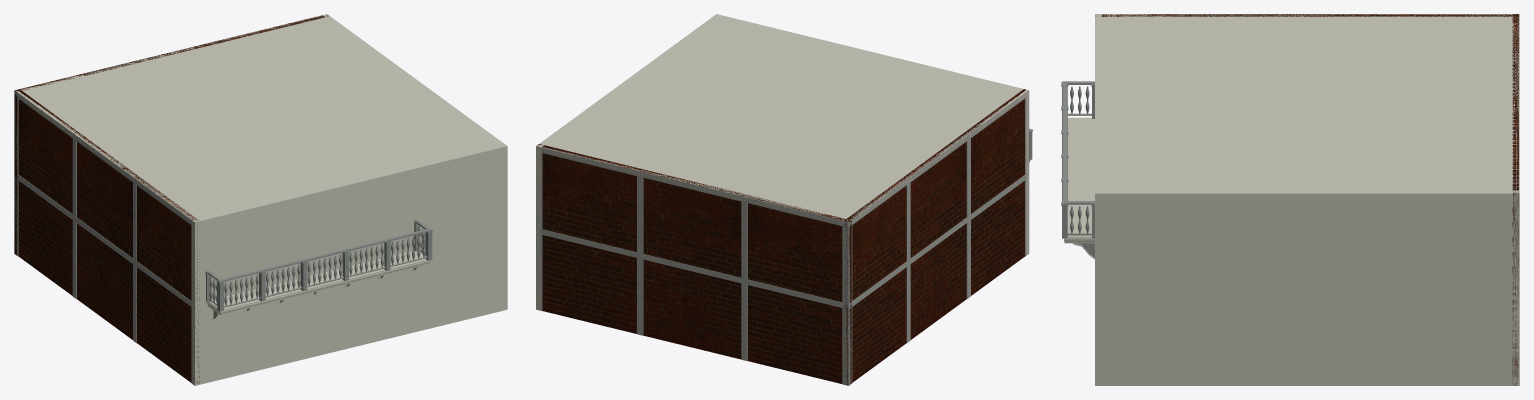
File: building.glb
3 views of the same model, side by side, from view 1: azimuth 30°, elevation 25°; view 2: azimuth 150°, elevation 25°; view 3: azimuth 270°, elevation 25° (orthographic). The views are drawn at different scales.
Parts seen in each view (by area): view 1: roof/house:0/roof_slab#0001, house:0/edge0/z0/house:0/edge0/z0/wall_0_0, house:0/edge3/z0/house:0/edge3/z0/wall_0_0, balcony/sample/balcony_platform#0001, house:0/edge2/z0/house:0/edge2/z0/wall_0_0, house:0/edge1/z0/house:0/edge1/z0/wall_0_0, house:0/edge3/z0/house:0/edge3/z0/beam_0_0, house:0/edge3/z0/house:0/edge3/z0/beam_1_0, balcony/sample/balcony_fascia#0001, balcony/sample/balcony_handrail#0001, balcony/sample/balcony_lower_rail#0002; view 2: roof/house:0/roof_slab#0001, house:0/edge2/z0/house:0/edge2/z0/wall_0_0, house:0/edge3/z0/house:0/edge3/z0/wall_0_0, house:0/edge2/z0/house:0/edge2/z0/beam_0_0, house:0/edge1/z0/house:0/edge1/z0/wall_0_0, house:0/edge2/z0/house:0/edge2/z0/beam_1_0, house:0/edge0/z0/house:0/edge0/z0/wall_0_0, house:0/edge3/z0/house:0/edge3/z0/beam_0_0, house:0/edge3/z0/house:0/edge3/z0/beam_1_0, house:0/edge2/z0/house:0/edge2/z0/column_1_1, house:0/edge2/z0/house:0/edge2/z0/column_2_0, house:0/edge2/z0/house:0/edge2/z0/column_2_1 (+3 smaller); view 3: house:0/edge1/z0/house:0/edge1/z0/wall_0_0, roof/house:0/roof_slab#0001, balcony/sample/balcony_platform#0001, house:0/edge0/z0/house:0/edge0/z0/wall_0_0, house:0/edge2/z0/house:0/edge2/z0/wall_0_0, house:0/edge3/z0/house:0/edge3/z0/wall_0_0, balcony/sample/balcony_handrail#0001.
Boxes of the visible parts, box(x1,y1,x2,y2) form: roof/house:0/roof_slab#0001: box(14, 16, 507, 224); house:0/edge0/z0/house:0/edge0/z0/wall_0_0: box(192, 144, 507, 385); house:0/edge3/z0/house:0/edge3/z0/wall_0_0: box(18, 89, 199, 383); balcony/sample/balcony_platform#0001: box(208, 251, 427, 310); house:0/edge2/z0/house:0/edge2/z0/wall_0_0: box(14, 15, 328, 255); house:0/edge1/z0/house:0/edge1/z0/wall_0_0: box(322, 14, 507, 310); house:0/edge3/z0/house:0/edge3/z0/beam_0_0: box(14, 172, 194, 309); house:0/edge3/z0/house:0/edge3/z0/beam_1_0: box(14, 90, 194, 225); balcony/sample/balcony_fascia#0001: box(207, 260, 430, 315); balcony/sample/balcony_handrail#0001: box(206, 219, 431, 281); balcony/sample/balcony_lower_rail#0002: box(224, 256, 427, 307); roof/house:0/roof_slab#0001: box(536, 14, 1028, 225); house:0/edge2/z0/house:0/edge2/z0/wall_0_0: box(537, 144, 851, 384); house:0/edge3/z0/house:0/edge3/z0/wall_0_0: box(843, 89, 1025, 385); house:0/edge2/z0/house:0/edge2/z0/beam_0_0: box(536, 228, 848, 309); house:0/edge1/z0/house:0/edge1/z0/wall_0_0: box(536, 15, 720, 310); house:0/edge2/z0/house:0/edge2/z0/beam_1_0: box(536, 146, 848, 227); house:0/edge0/z0/house:0/edge0/z0/wall_0_0: box(714, 14, 1029, 255); house:0/edge3/z0/house:0/edge3/z0/beam_0_0: box(848, 173, 1028, 309); house:0/edge3/z0/house:0/edge3/z0/beam_1_0: box(848, 90, 1028, 227); house:0/edge2/z0/house:0/edge2/z0/column_1_1: box(842, 226, 848, 303); house:0/edge2/z0/house:0/edge2/z0/column_2_0: box(637, 176, 643, 253); house:0/edge2/z0/house:0/edge2/z0/column_2_1: box(637, 258, 643, 335); house:0/edge1/z0/house:0/edge1/z0/wall_0_0: box(1095, 190, 1519, 385); roof/house:0/roof_slab#0001: box(1095, 14, 1519, 197); balcony/sample/balcony_platform#0001: box(1067, 117, 1094, 238); house:0/edge0/z0/house:0/edge0/z0/wall_0_0: box(1095, 14, 1101, 385); house:0/edge2/z0/house:0/edge2/z0/wall_0_0: box(1512, 14, 1518, 385); house:0/edge3/z0/house:0/edge3/z0/wall_0_0: box(1095, 14, 1512, 16); balcony/sample/balcony_handrail#0001: box(1062, 81, 1094, 204).
Bounding box in the file's own units: 12 × 6 × 12.95.
4 materials, 1 textured.
